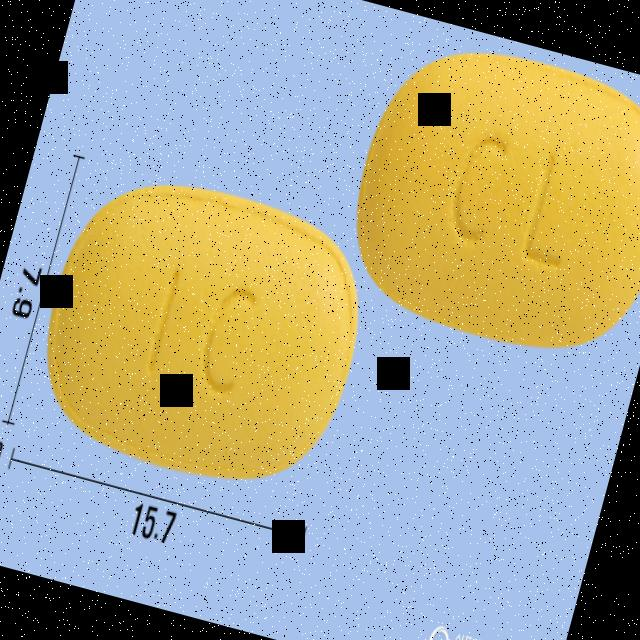Clocin: (17, 155, 386, 508), (329, 25, 640, 375)
